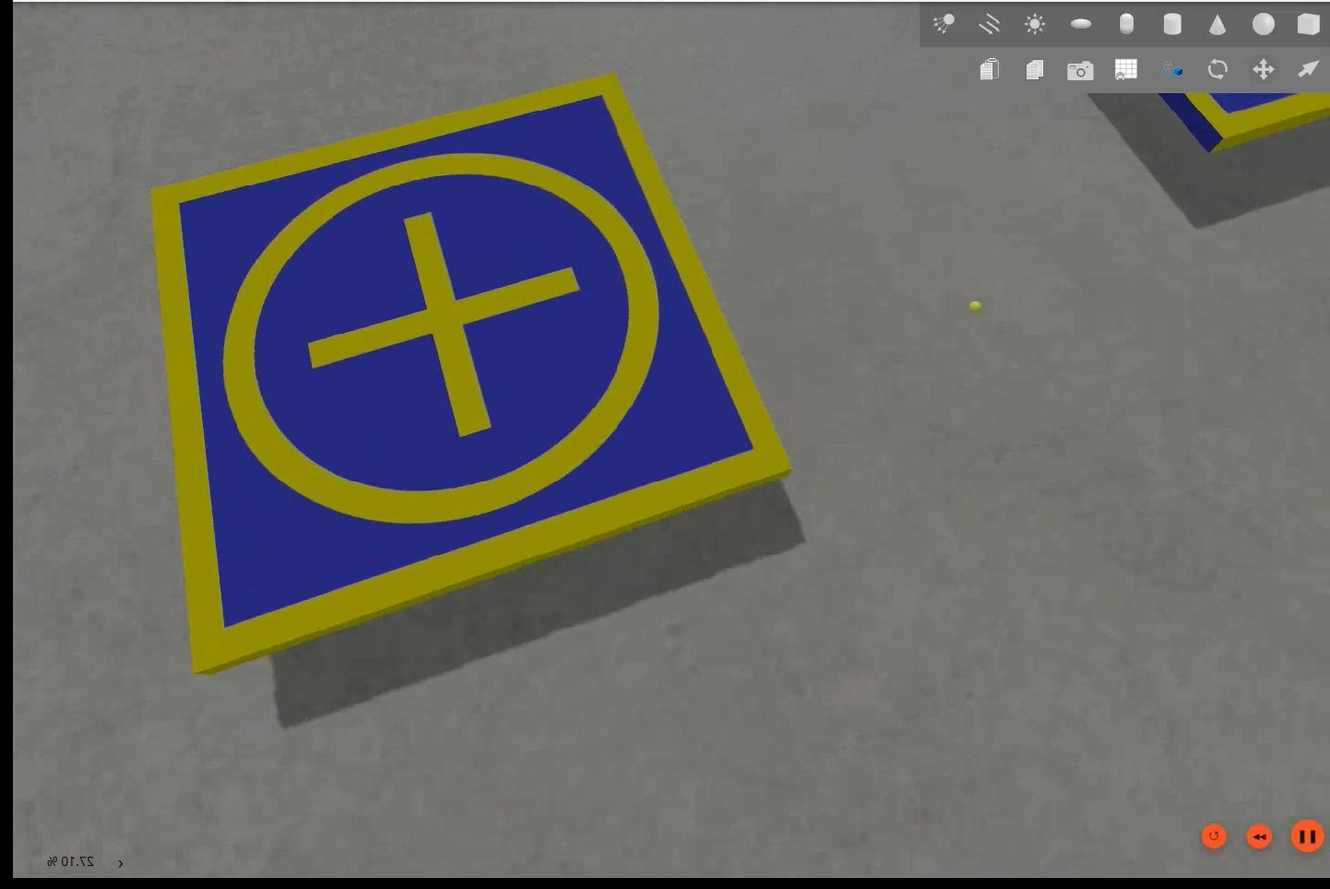small_base: (145, 70, 792, 675)
